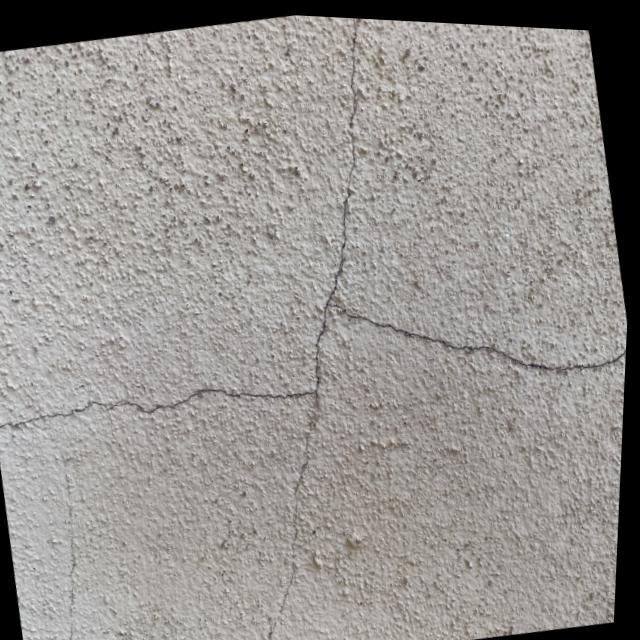Crack: (247, 11, 445, 416), (0, 340, 319, 466), (205, 406, 359, 640), (414, 250, 632, 402), (26, 438, 139, 640)
